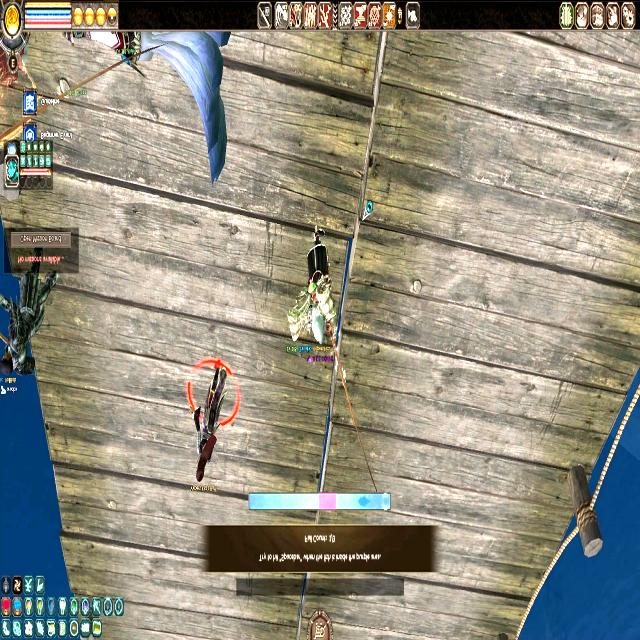fishes: (358, 495, 369, 508)
